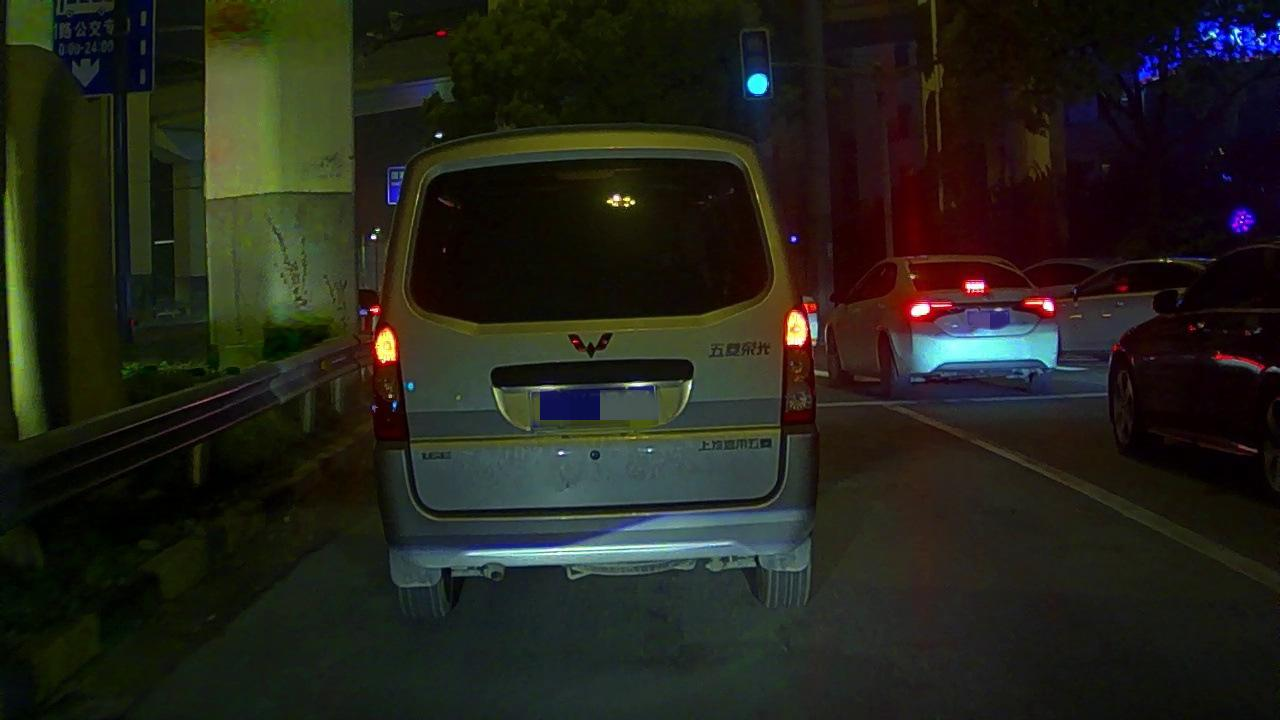traffic_light: (741, 30, 771, 97)
